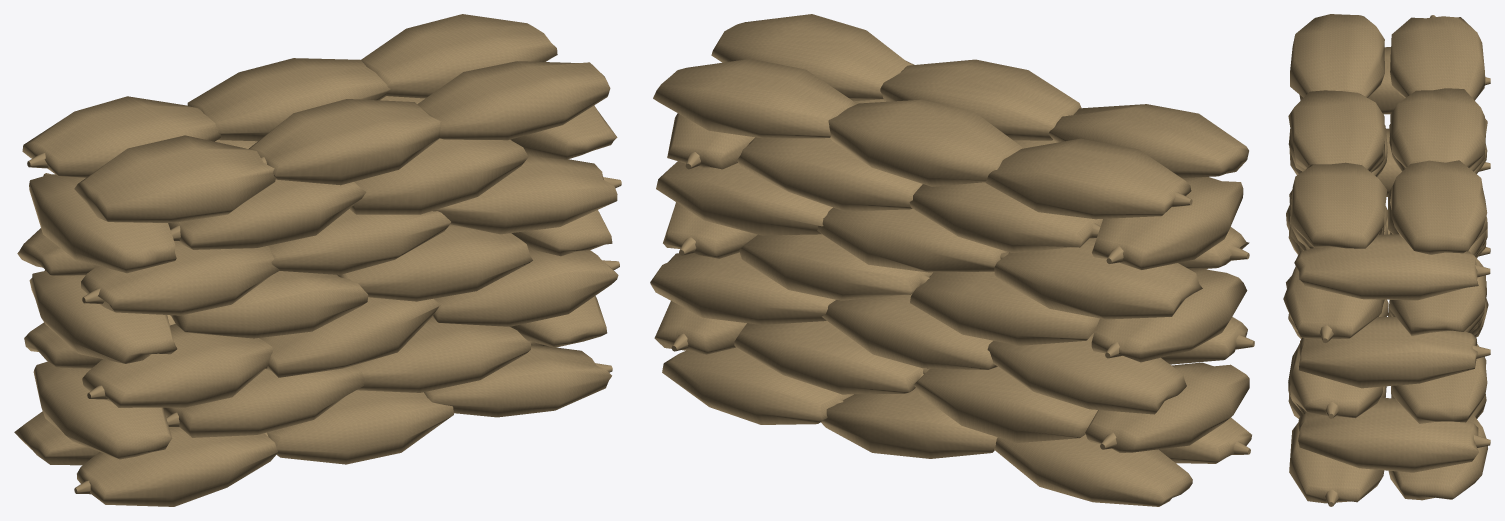
File: OB_Worki.fbx
The picture shows the model from 3 angles, left to right: view 1: azimuth 30°, elevation 25°; view 2: azimuth 150°, elevation 25°; view 3: azimuth 270°, elevation 25°; orthographic projection. The views are drawn at different scales.
Parts seen in each view (by area): view 1: Worki; view 2: Worki; view 3: Worki.
Boxes of the visible parts, box(x1,y1,x2,y2) form: Worki: box(14, 14, 621, 506); Worki: box(650, 14, 1254, 506); Worki: box(1283, 14, 1490, 506).
Bounding box in the file's own units: 1.55 × 0.9027 × 0.5796.
